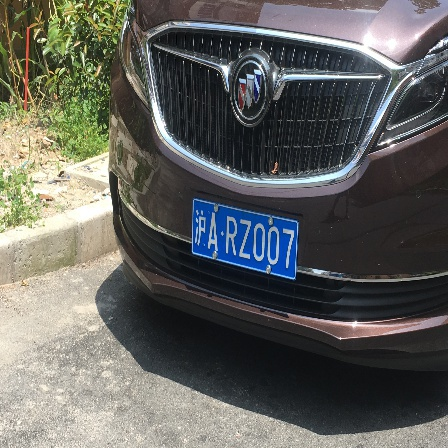plate: (188, 193, 303, 286)
